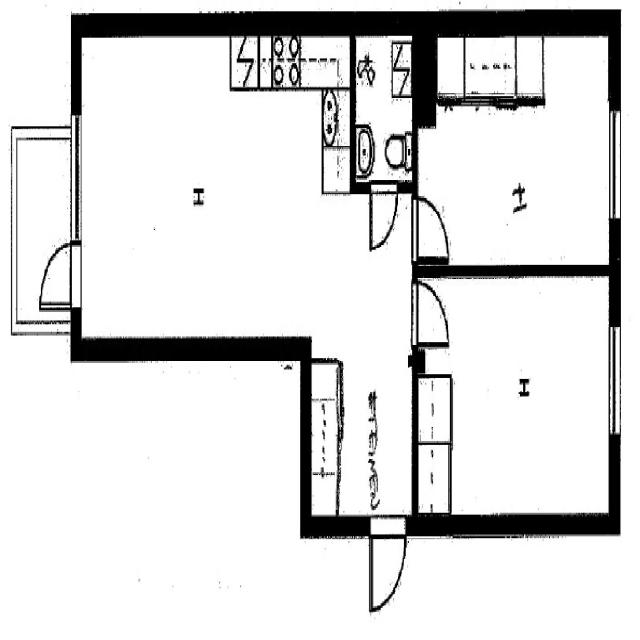door: (366, 513, 410, 615), (35, 233, 82, 312), (413, 191, 452, 260), (414, 277, 451, 347), (366, 184, 401, 255)
window: (605, 317, 624, 448), (68, 107, 86, 243), (606, 99, 624, 228)
zone: (68, 33, 336, 344), (415, 270, 618, 527), (423, 61, 614, 268), (354, 27, 416, 185), (464, 33, 517, 93)
